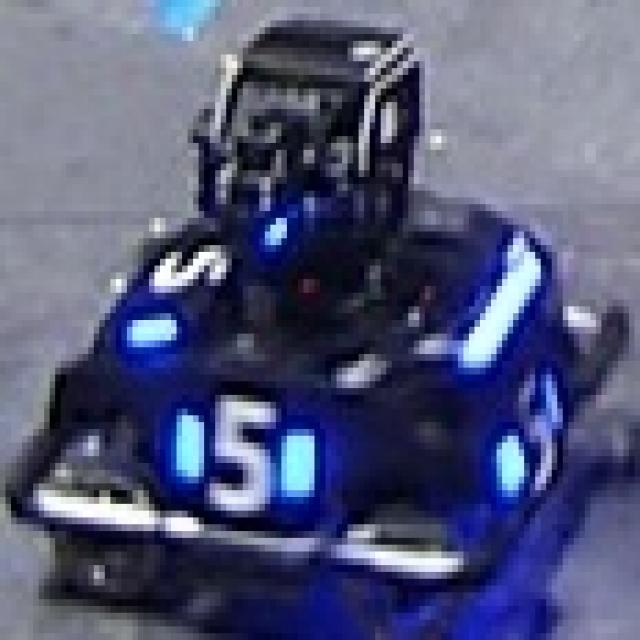B5: (146, 381, 334, 511), (113, 191, 229, 354), (488, 344, 571, 500)
